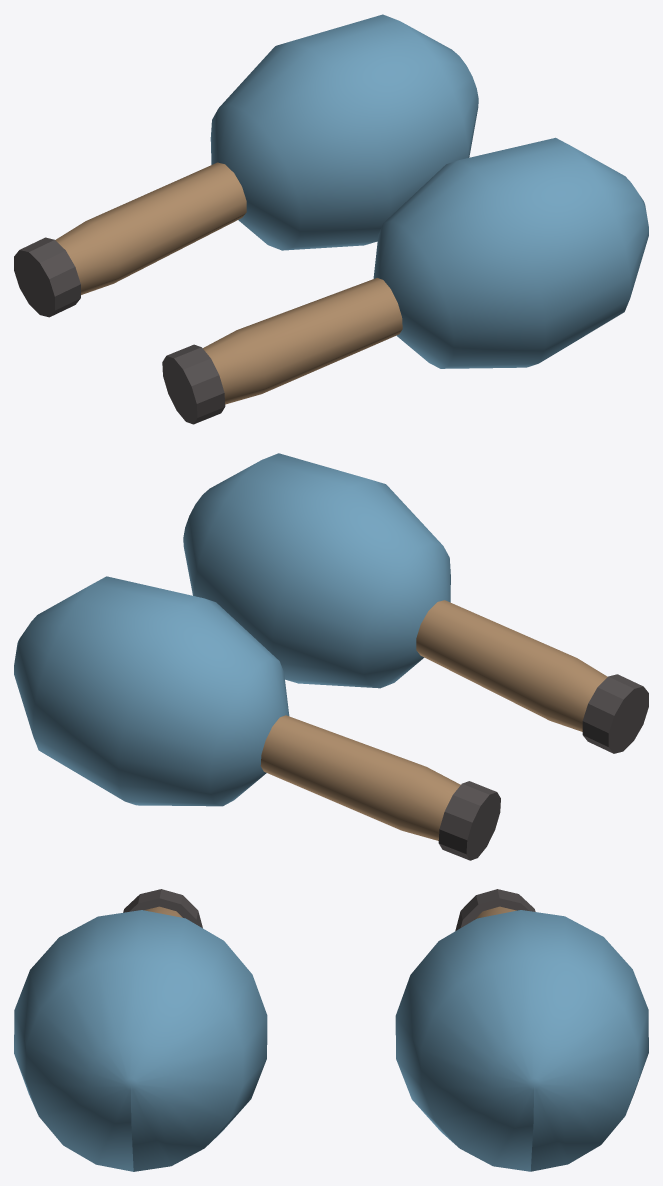
Rendered from orchestra-and-band-instruments-maracas-pair-e1310f65__39304.glb.
3 views of the same model, one above another, from view 1: azimuth 30°, elevation 25°; view 2: azimuth 150°, elevation 25°; view 3: azimuth 270°, elevation 25° (orthographic). The views are drawn at different scales.
Parts seen in each view (by area): view 1: maracas-pair; view 2: maracas-pair; view 3: maracas-pair.
Boxes of the visible parts, box(x1,y1,x2,y2) form: maracas-pair: box(14, 14, 648, 424); maracas-pair: box(14, 453, 648, 860); maracas-pair: box(14, 889, 648, 1171).
Size of the model in its own units: 0.1994 by 0.0839 by 0.2073.
